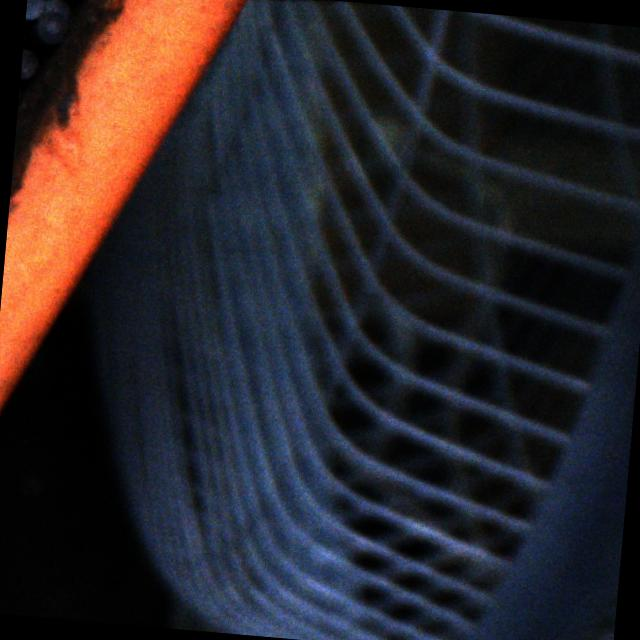tool: (32, 10, 68, 42), (41, 0, 72, 20), (20, 46, 39, 78), (25, 0, 45, 19)
